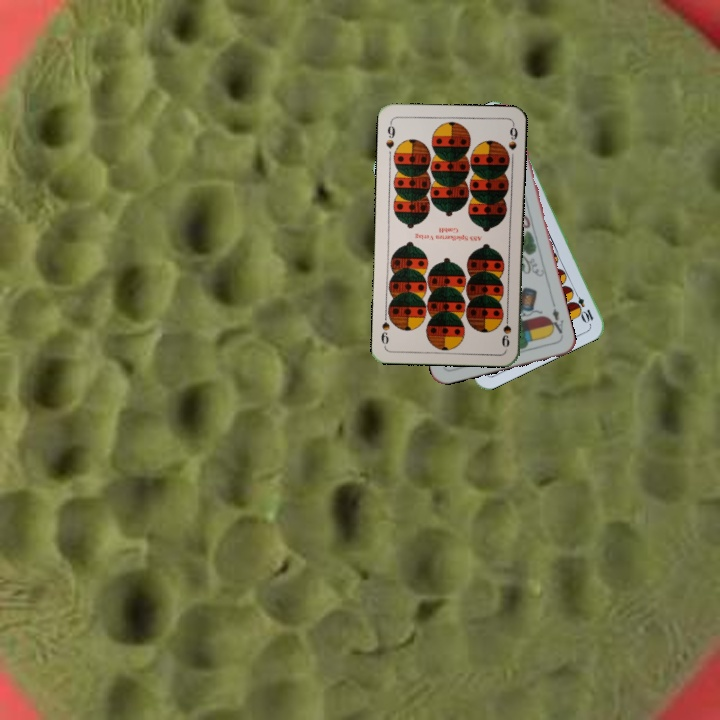E10: (569, 287, 596, 325)
EA: (545, 299, 566, 336)
S9: (498, 310, 514, 350), (382, 118, 398, 151)
